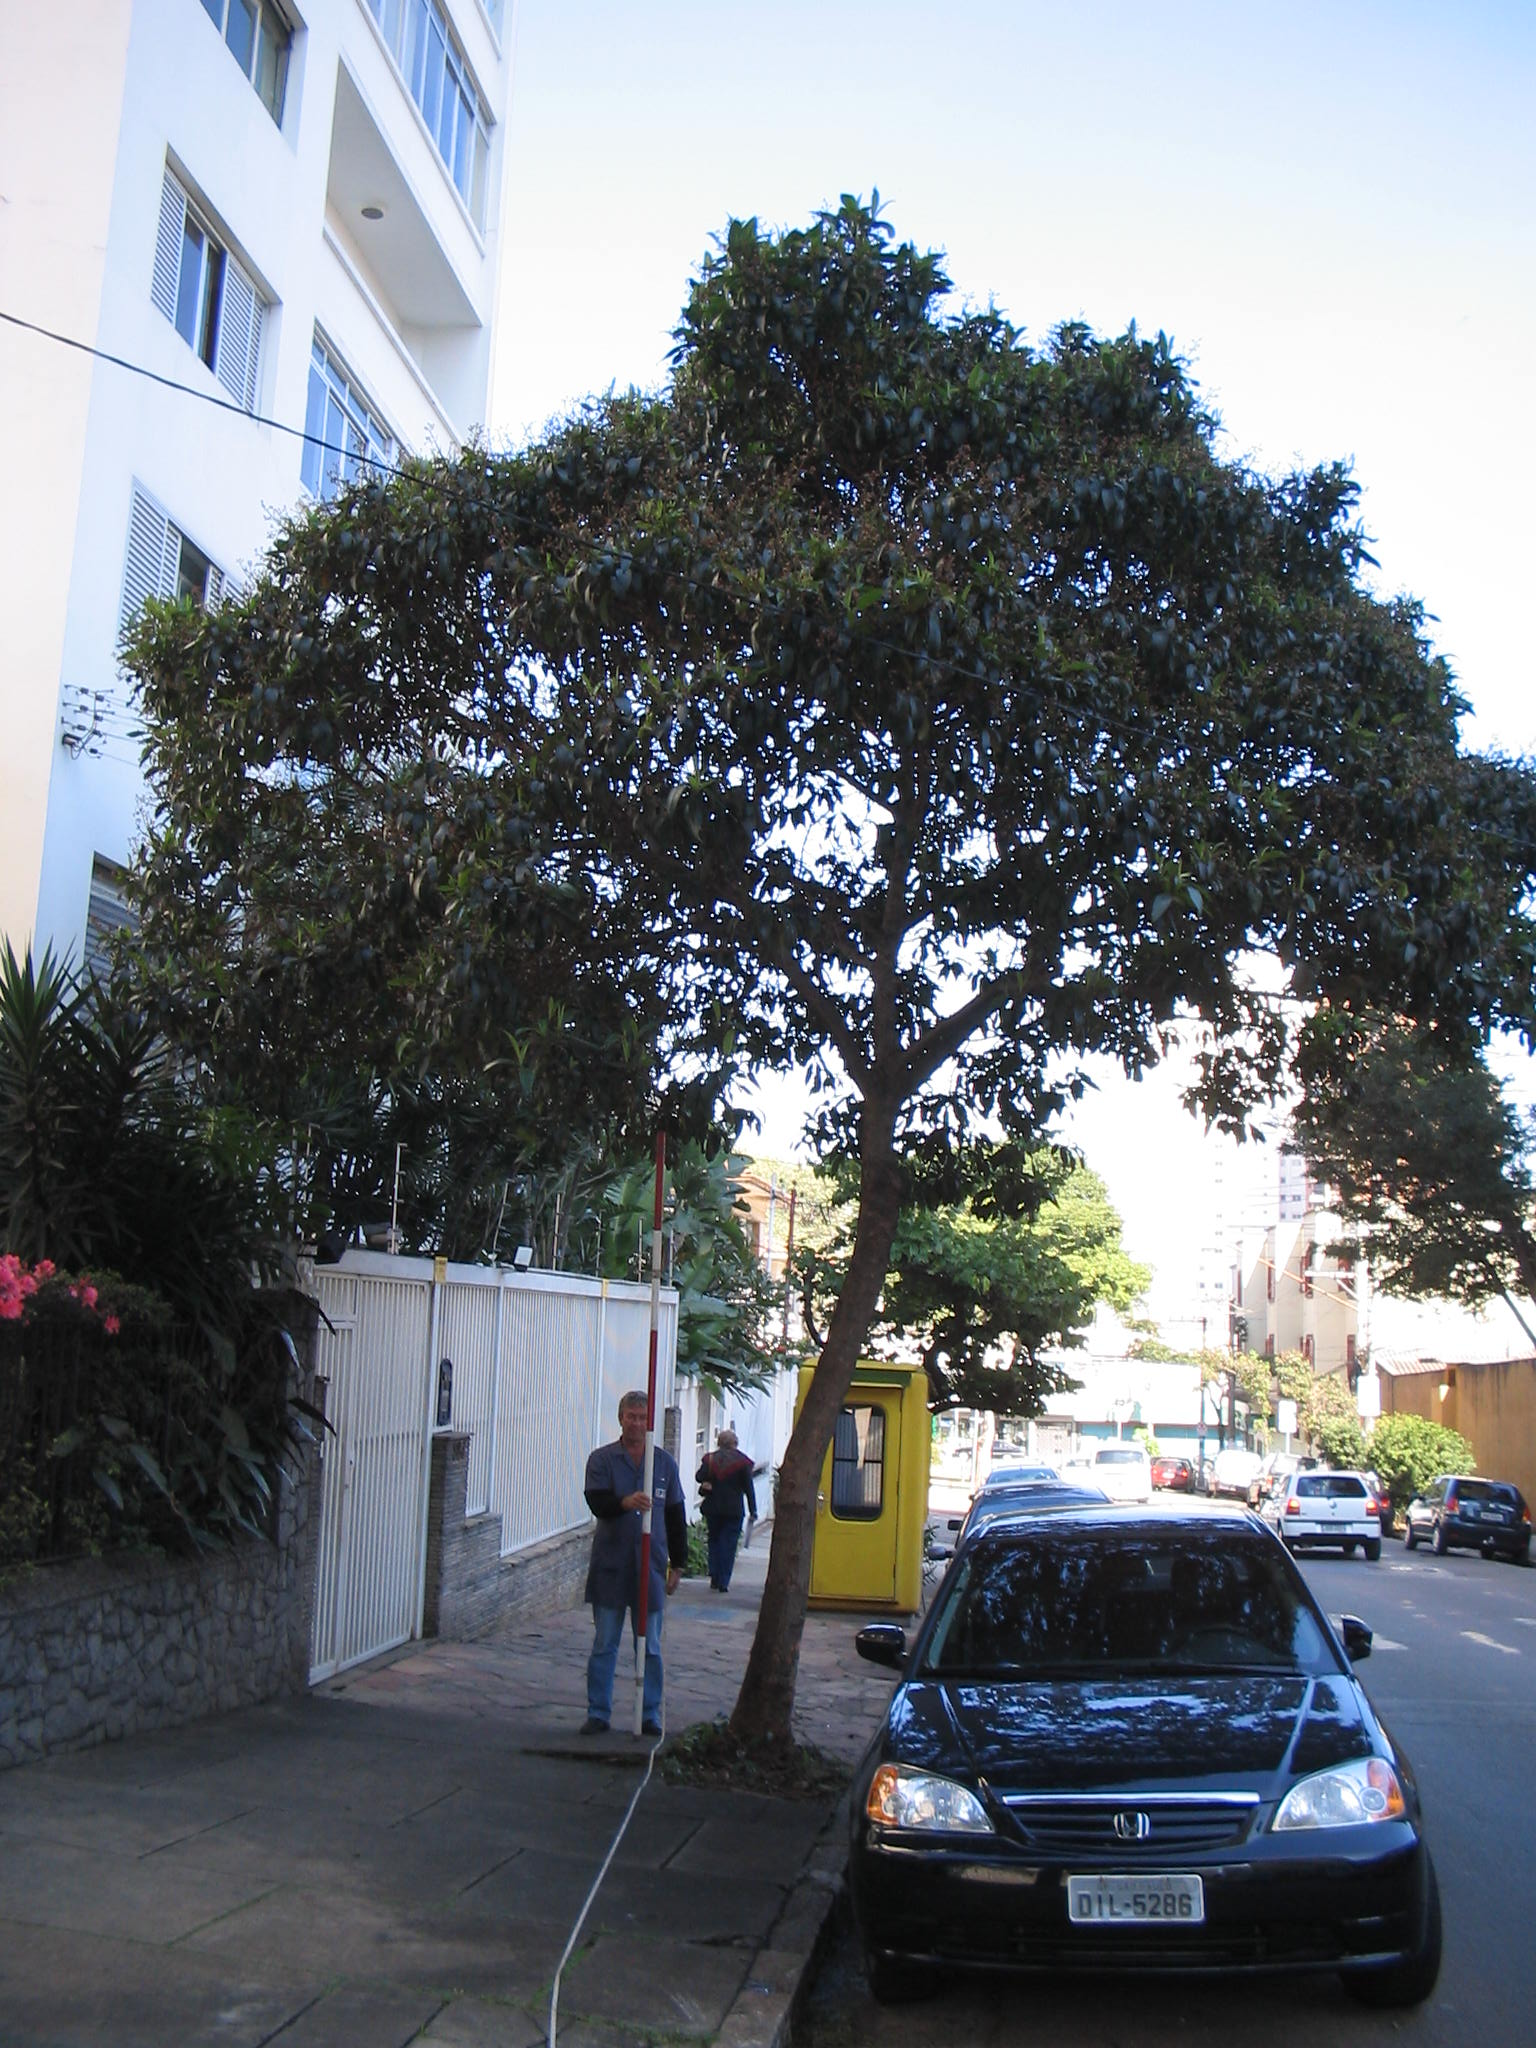crown: (123, 200, 1525, 1295)
stem: (716, 1090, 933, 1742)
stick: (599, 1137, 691, 1742)
tree: (115, 195, 1533, 1746)
